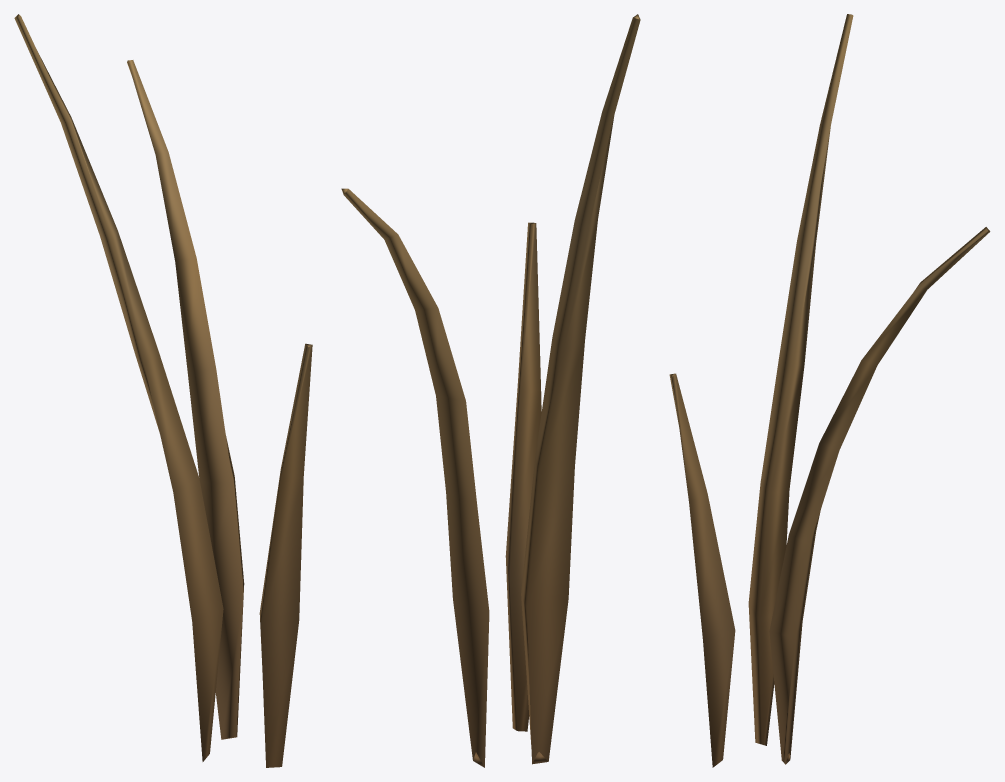
The model's file is trees-grasses-dry-grass-blades_v2.glb.
The picture shows the model from 3 angles, left to right: view 1: azimuth 30°, elevation 25°; view 2: azimuth 150°, elevation 25°; view 3: azimuth 270°, elevation 25°; orthographic projection. The views are drawn at different scales.
Parts seen in each view (by area): view 1: Dry Grass Blades_v2; view 2: Dry Grass Blades_v2; view 3: Dry Grass Blades_v2.
Boxes of the visible parts, x1=… form: Dry Grass Blades_v2: x1=14, y1=14, x2=312, y2=767; Dry Grass Blades_v2: x1=341, y1=14, x2=640, y2=767; Dry Grass Blades_v2: x1=669, y1=14, x2=990, y2=767.
Size of the model in its own units: 0.1718 by 0.6 by 0.26.
